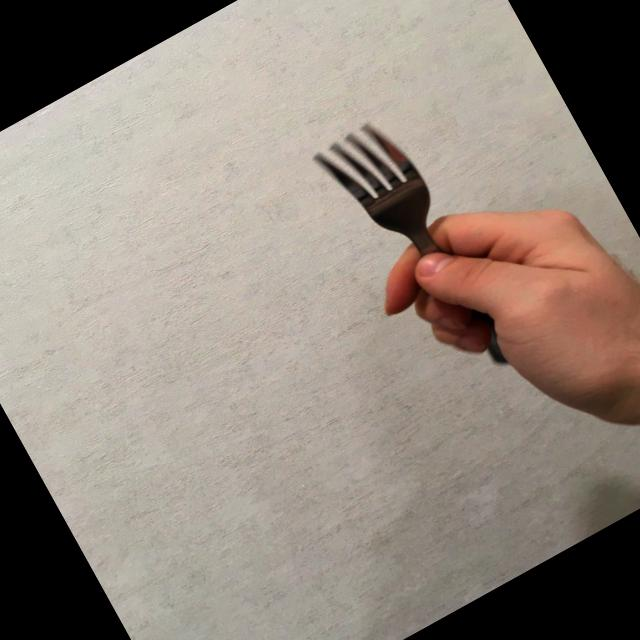fork: (309, 108, 527, 401)
